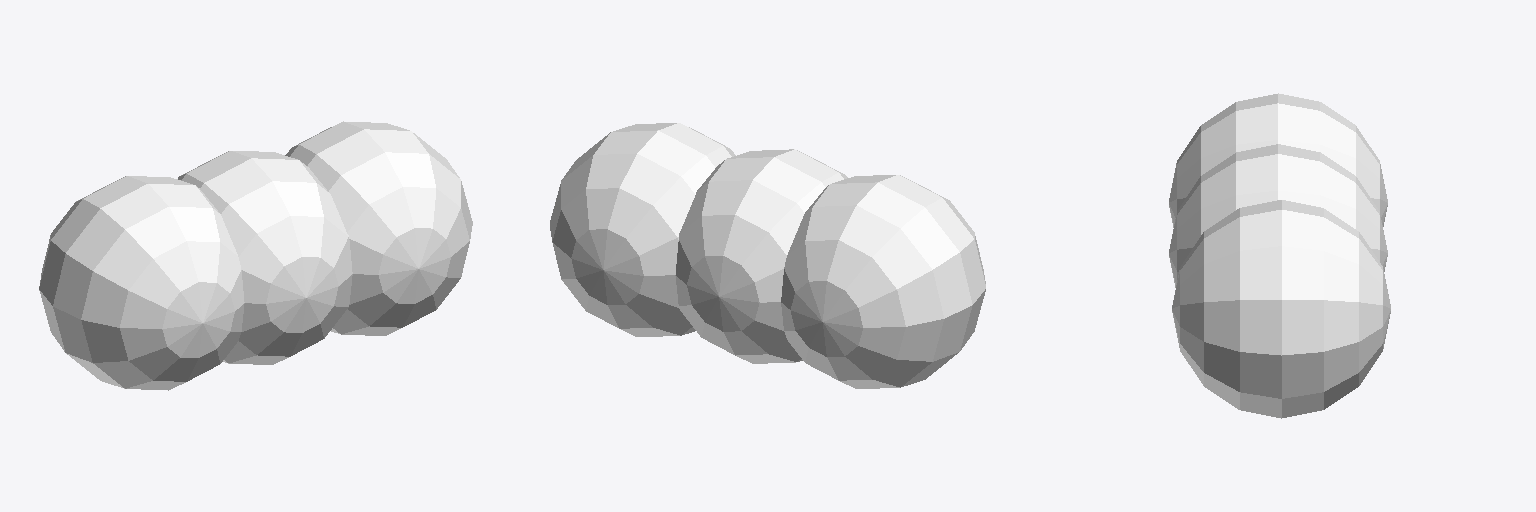
The model's file is Cloud.obj.
The picture shows the model from 3 angles: view 1: azimuth 30°, elevation 25°; view 2: azimuth 150°, elevation 25°; view 3: azimuth 270°, elevation 25°; orthographic projection.
Parts seen in each view (by area): view 1: Mesh2 Mesh3_sphere02_1_skpE0_1_Model Model, Mesh3 Mesh4_sphere03_1_skpE0_1_Model Model, Mesh1 Mesh2_sphere01_1_skpE0_1_Model Model; view 2: Mesh2 Mesh3_sphere02_1_skpE0_1_Model Model, Mesh3 Mesh4_sphere03_1_skpE0_1_Model Model, Mesh1 Mesh2_sphere01_1_skpE0_1_Model Model; view 3: Mesh3 Mesh4_sphere03_1_skpE0_1_Model Model, Mesh1 Mesh2_sphere01_1_skpE0_1_Model Model, Mesh2 Mesh3_sphere02_1_skpE0_1_Model Model.
Boxes of the visible parts, box(x1,y1,x2,y2) form: Mesh2 Mesh3_sphere02_1_skpE0_1_Model Model: box(39, 176, 244, 390); Mesh3 Mesh4_sphere03_1_skpE0_1_Model Model: box(285, 121, 472, 335); Mesh1 Mesh2_sphere01_1_skpE0_1_Model Model: box(178, 151, 352, 364); Mesh2 Mesh3_sphere02_1_skpE0_1_Model Model: box(781, 175, 985, 388); Mesh3 Mesh4_sphere03_1_skpE0_1_Model Model: box(550, 123, 735, 336); Mesh1 Mesh2_sphere01_1_skpE0_1_Model Model: box(675, 149, 847, 363); Mesh3 Mesh4_sphere03_1_skpE0_1_Model Model: box(1172, 200, 1390, 418); Mesh1 Mesh2_sphere01_1_skpE0_1_Model Model: box(1169, 144, 1387, 287); Mesh2 Mesh3_sphere02_1_skpE0_1_Model Model: box(1169, 93, 1387, 227).
Bounding box in the file's own units: 6.84 × 3.19 × 3.24.